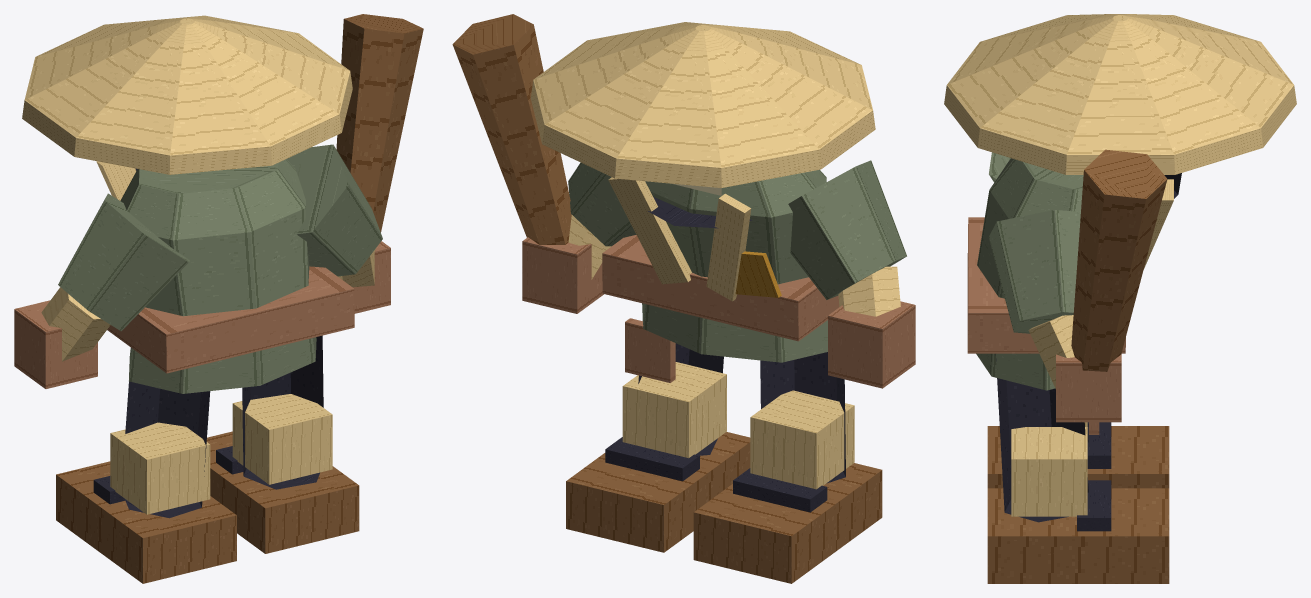
The model's file is straw_hat_bandit.glb.
3 renders of one model, left to right at view 1: azimuth 30°, elevation 25°; view 2: azimuth 150°, elevation 25°; view 3: azimuth 270°, elevation 25°, orthographic. The views are drawn at different scales.
Visible parts, largest first — view 1: Head_straw_hat, Root_tunic, Root_sash, Leg_L_sandal, Arm_R_club, Arm_L_sleeve, Leg_R_sandal, Arm_R_sleeve, Leg_L_wrap, Leg_R_wrap, Arm_L_hand, Leg_L (+6 smaller); view 2: Head_straw_hat, Arm_R_club, Root_tunic, Leg_L_sandal, Leg_R_sandal, Arm_L_sleeve, Root_sash, Leg_L_wrap, Leg_R_wrap, Arm_L_hand, Arm_R_hand, Root_lapel.001 (+11 smaller); view 3: Head_straw_hat, Arm_R_club, Leg_R_sandal, Arm_R_sleeve, Root_tunic, Leg_R_wrap, Leg_L_sandal, Root_sash, Arm_R_hand, Leg_R, Arm_R_wrap, Leg_R_strap (+2 smaller).
Boxes of the visible parts, left/top/right/bottom form: Head_straw_hat: left=22, top=15, right=352, bottom=174; Root_tunic: left=120, top=159, right=316, bottom=393; Root_sash: left=107, top=266, right=354, bottom=373; Leg_L_sandal: left=56, top=461, right=236, bottom=583; Arm_R_club: left=336, top=14, right=423, bottom=232; Arm_L_sleeve: left=58, top=193, right=189, bottom=331; Leg_R_sandal: left=206, top=431, right=359, bottom=553; Arm_R_sleeve: left=286, top=144, right=382, bottom=276; Leg_L_wrap: left=110, top=422, right=210, bottom=514; Leg_R_wrap: left=232, top=394, right=332, bottom=484; Arm_L_hand: left=14, top=300, right=97, bottom=388; Leg_L: left=124, top=348, right=210, bottom=518; Head_straw_hat: left=530, top=22, right=875, bottom=187; Arm_R_club: left=452, top=14, right=571, bottom=244; Root_tunic: left=642, top=169, right=827, bottom=362; Leg_L_sandal: left=693, top=463, right=882, bottom=583; Leg_R_sandal: left=566, top=432, right=750, bottom=552; Arm_L_sleeve: left=788, top=160, right=906, bottom=299; Root_sash: left=602, top=235, right=839, bottom=341; Leg_L_wrap: left=750, top=390, right=854, bottom=489; Leg_R_wrap: left=622, top=362, right=726, bottom=458; Arm_L_hand: left=828, top=301, right=915, bottom=388; Arm_R_hand: left=522, top=237, right=603, bottom=313; Root_lapel.001: left=608, top=177, right=691, bottom=284; Head_straw_hat: left=944, top=14, right=1296, bottom=174; Arm_R_club: left=1071, top=149, right=1167, bottom=371; Leg_R_sandal: left=987, top=488, right=1169, bottom=583; Arm_R_sleeve: left=989, top=210, right=1080, bottom=333; Root_tunic: left=976, top=158, right=1083, bottom=390; Leg_R_wrap: left=1011, top=427, right=1087, bottom=516; Leg_L_sandal: left=987, top=426, right=1169, bottom=488; Root_sash: left=967, top=217, right=1125, bottom=353; Arm_R_hand: left=1056, top=354, right=1121, bottom=422; Leg_R: left=995, top=354, right=1088, bottom=522; Arm_R_wrap: left=1028, top=315, right=1074, bottom=388; Leg_R_strap: left=1077, top=480, right=1111, bottom=531.
Bounding box in the file's own units: 1.84 × 2.14 × 1.34.
1 material, 1 textured.
